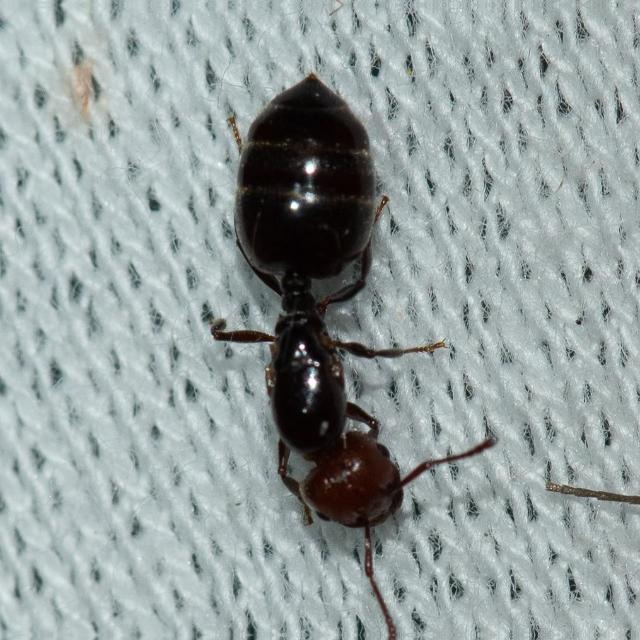Crematogaster: (184, 19, 433, 554)
